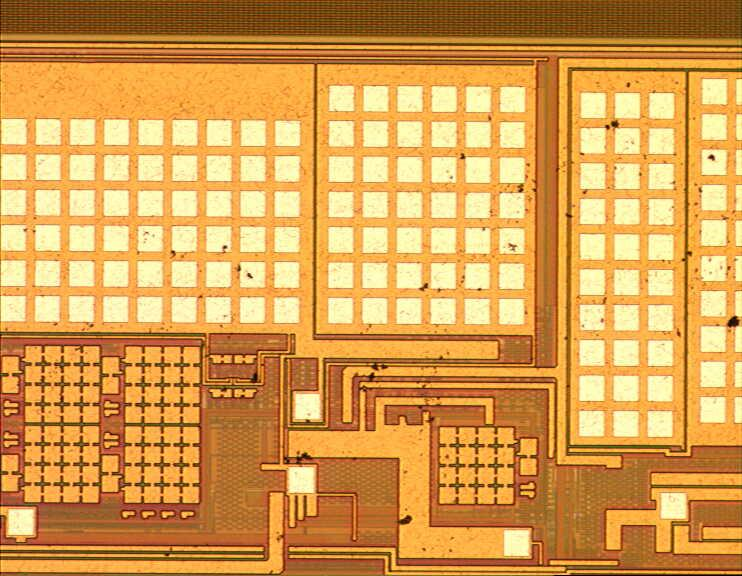PO CONTAMINATION: (1, 76, 742, 473)
